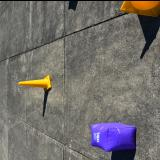cone: (119, 0, 160, 16), (18, 74, 52, 91)
cube: (90, 121, 136, 151)
